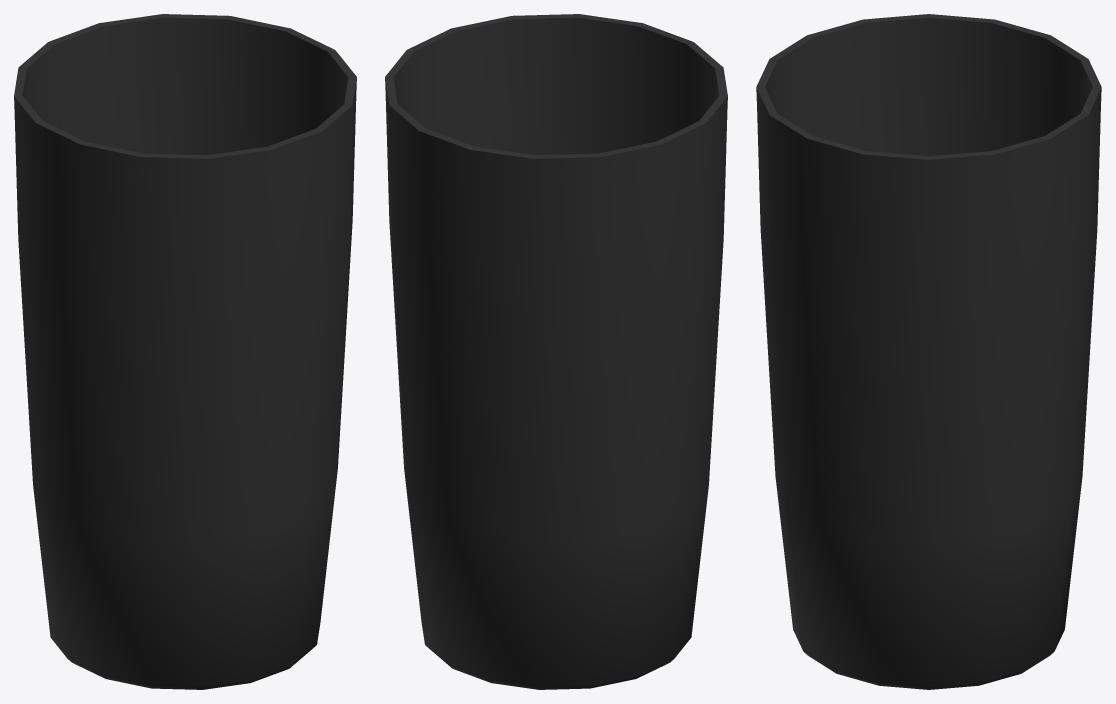
The model's file is p6_bar_shaker_cup_lod0.glb.
The picture shows the model from 3 angles, left to right: view 1: azimuth 30°, elevation 25°; view 2: azimuth 150°, elevation 25°; view 3: azimuth 270°, elevation 25°; orthographic projection.
Visible parts, largest first — view 1: surf0, surf1; view 2: surf0, surf1; view 3: surf0, surf1.
Boxes of the visible parts, bbox=[...] form: surf0: bbox=[14, 35, 356, 689]; surf1: bbox=[14, 14, 356, 176]; surf0: bbox=[385, 35, 727, 689]; surf1: bbox=[385, 14, 727, 176]; surf0: bbox=[757, 35, 1100, 689]; surf1: bbox=[756, 14, 1101, 177].
Bounding box in the file's own units: 4 × 7 × 4.
